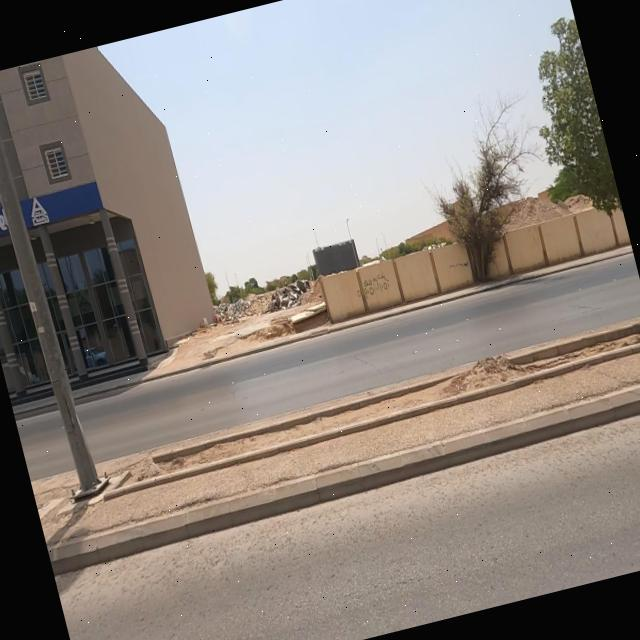Graffiti: (355, 271, 393, 303), (449, 257, 470, 273)
